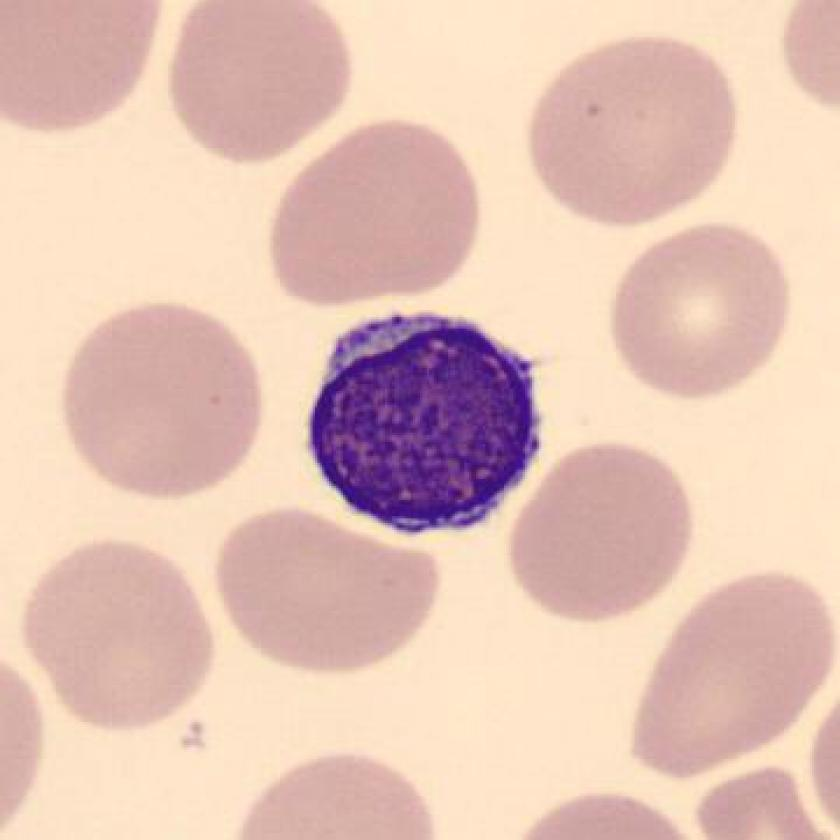lymphocyte: (293, 293, 561, 559)
